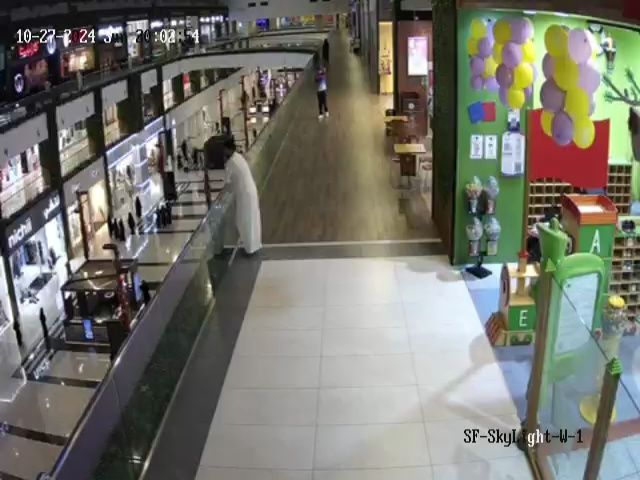female: (8, 312, 29, 353), (314, 65, 329, 118), (33, 307, 54, 344), (105, 215, 127, 245), (136, 272, 154, 304), (123, 212, 141, 238), (320, 35, 332, 66), (132, 193, 146, 219), (179, 139, 191, 167), (158, 199, 168, 229), (165, 201, 176, 224), (155, 205, 161, 232)
male: (215, 143, 275, 257), (63, 258, 74, 281)
